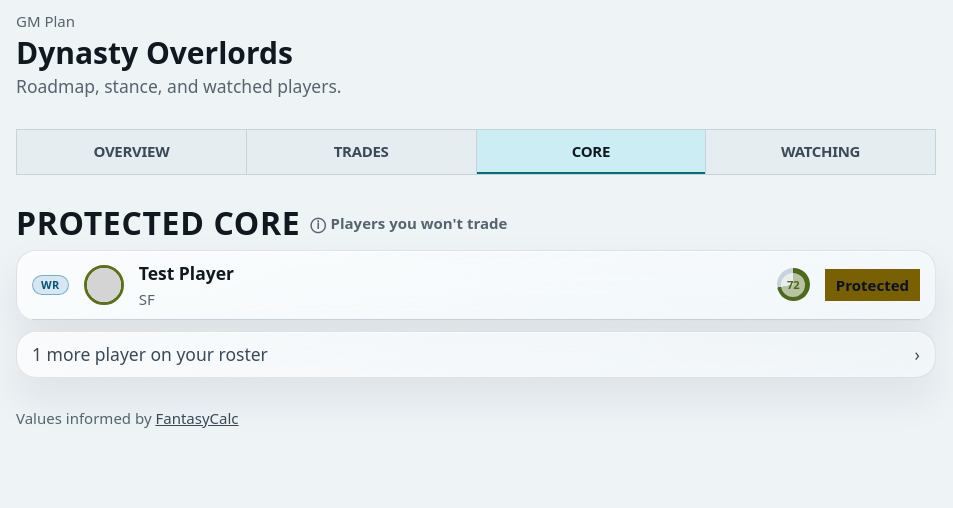
Scenario: GmPlanContent › Protected Players section › lists roster players and groups an already-untouchable one as protected
Click the text "1 more player on your roster". click: (150, 354)
box: [32,342,268,367]
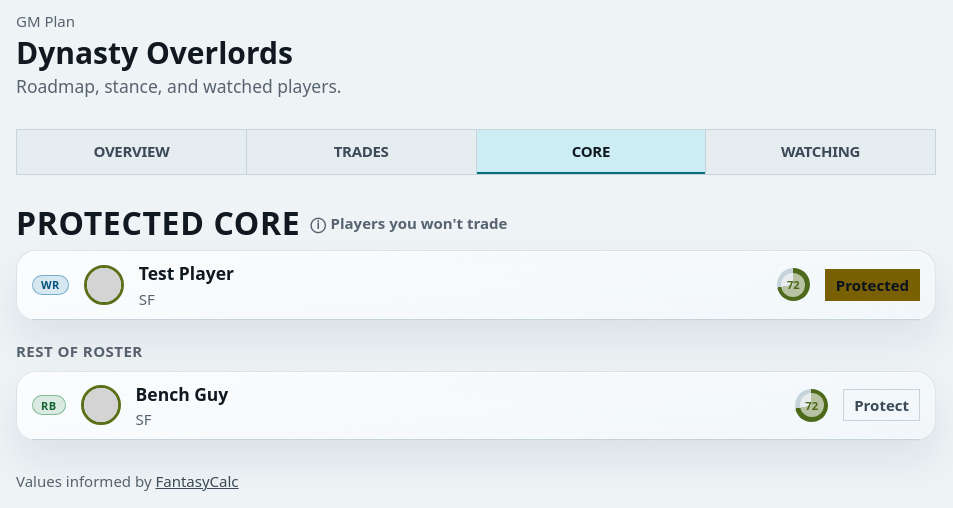
Expected: the text "Test Player" is shown, [139,261,234,286]
Now the text "Bench Guy" is shown, box [136,382,228,407]
Now the heading "Rest of Roster" is shown, box [16,341,143,361]
